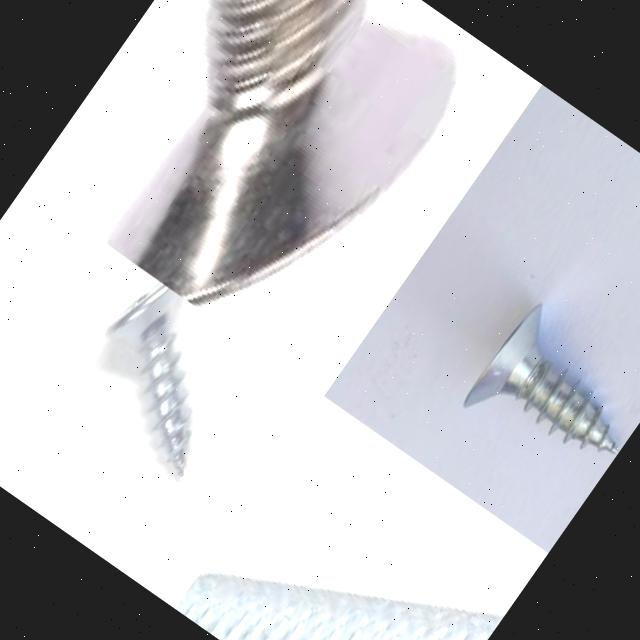Screw: (102, 0, 457, 307), (174, 569, 505, 640), (461, 304, 615, 454), (104, 281, 189, 477)
